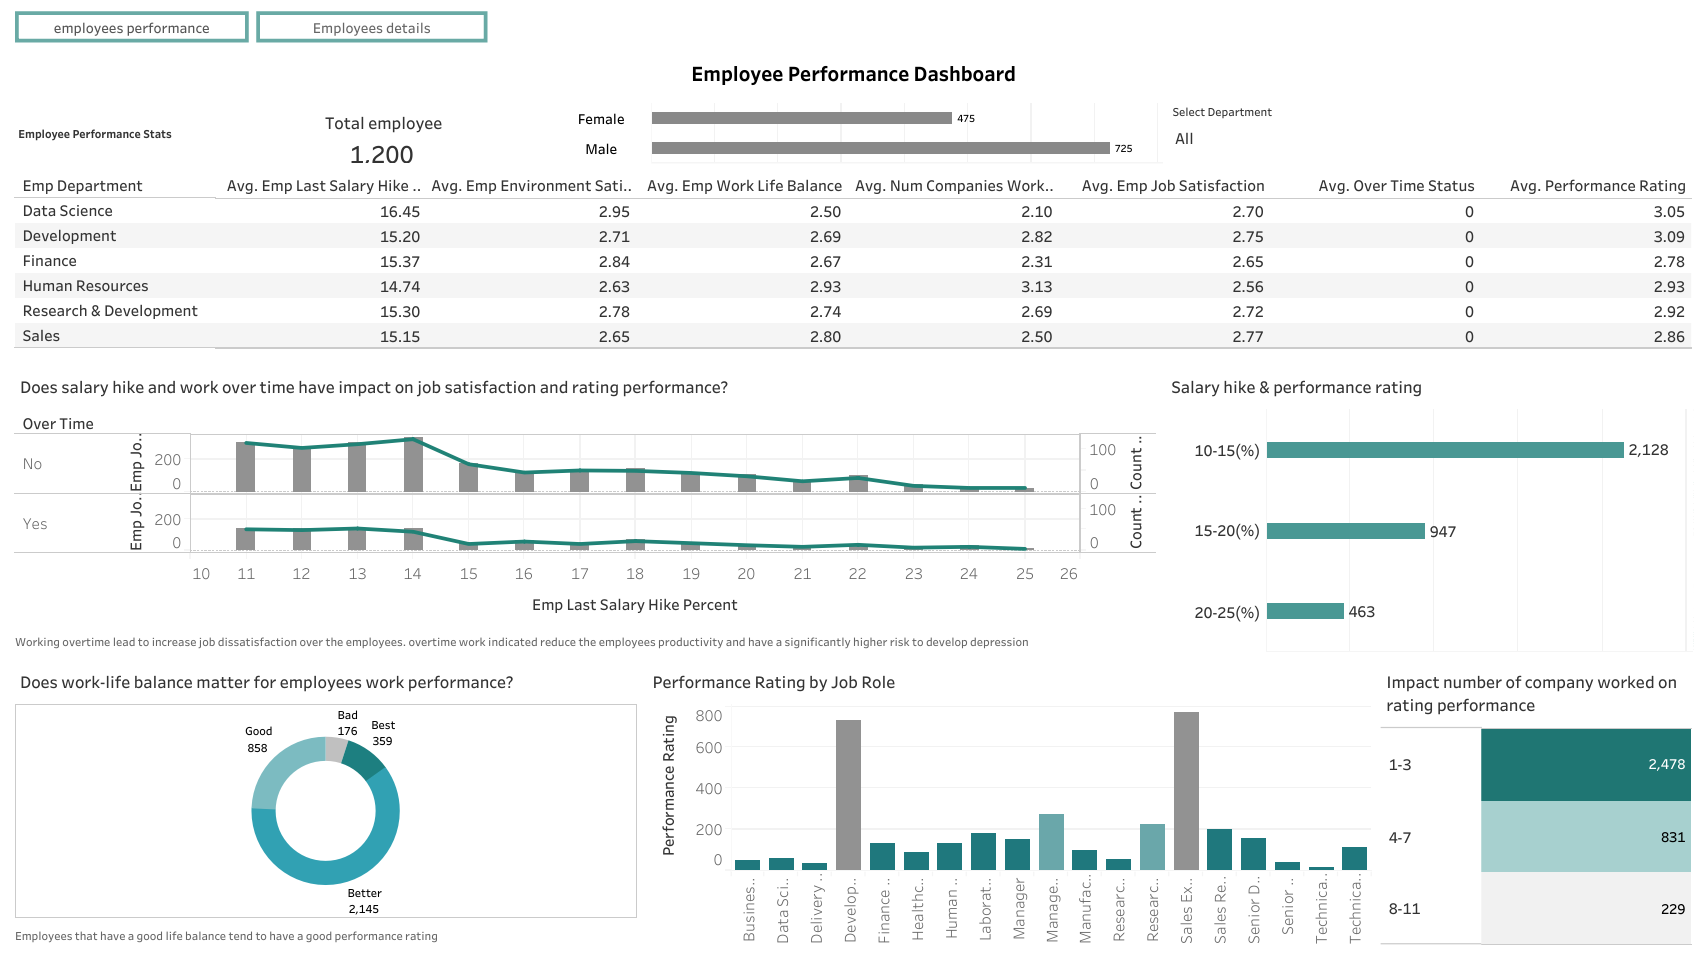

The page's visual inventory and layout, read from the dashboard file:
{"tool":"tableau","page":{"name":"Dashboard 1","canvas":[1366,768],"ordinal":0},"visuals":[{"type":"blank","box":[8,8,1350,31.5]},{"type":"dashboard-object","box":[12,9,187,25]},{"type":"dashboard-object","box":[205,9,185,25]},{"type":"text","box":[8,39.5,1350,38.9]},{"type":"text","box":[8,78.3,168.6,55.4]},{"type":"worksheet","title":"Sheet 7","mark":"Automatic","box":[176.6,78.3,260.5,55.4]},{"type":"worksheet","title":"gender","mark":"Automatic","rows":["Gender"],"cols":["Calculation_6748784781021016066"],"box":[437.1,78.3,496.5,55.4]},{"type":"filter","title":"Sheet 1","param":"[federated.1du6hrg1hfmber1145enj0nondwr].[none:EmpDepartment:nk]","box":[933.6,78.3,424.4,55.4]},{"type":"worksheet","title":"Sheet 1","mark":"Automatic","rows":["EmpDepartment"],"box":[8,133.7,1350,155]},{"type":"worksheet","title":"Sheet 11","mark":"Bar","rows":["OverTime","EmpJobSatisfaction","PerformanceRating"],"cols":["EmpLastSalaryHikePercent"],"box":[8,288.7,921,236.2]},{"type":"worksheet","title":"Sheet 10","mark":"Automatic","rows":["Calculation_6748784781291565072"],"cols":["PerformanceRating"],"box":[929,288.7,429,236.2]},{"type":"worksheet","title":"balance of life","mark":"Pie","cols":["Calculation_6748784781311778835","Calculation_6748784781311778835"],"box":[8,524.9,506,235.1]},{"type":"worksheet","title":"performance rating","mark":"Automatic","rows":["PerformanceRating"],"cols":["EmpJobRole"],"box":[514,524.9,586.7,235.1]},{"type":"worksheet","title":"Sheet 12","mark":"Square","rows":["devide the salary  (copy)_6748784781332709398"],"box":[1100.7,524.9,257.3,235.1]}]}

Visuals, with their boxes in screenshot pixels (x1, y1, x2, y2), scaled from the page's 1366x768 canvas onto the 1706x959 screenshot:
blank: 10,10,1696,49
dashboard-object: 15,11,249,42
dashboard-object: 256,11,487,42
text: 10,49,1696,98
text: 10,98,221,167
"Sheet 7" worksheet: 221,98,546,167
"gender" worksheet: 546,98,1166,167
"Sheet 1" filter: 1166,98,1696,167
"Sheet 1" worksheet: 10,167,1696,360
"Sheet 11" worksheet (Bar marks): 10,360,1160,655
"Sheet 10" worksheet: 1160,360,1696,655
"balance of life" worksheet (Pie marks): 10,655,642,949
"performance rating" worksheet: 642,655,1375,949
"Sheet 12" worksheet (Square marks): 1375,655,1696,949
